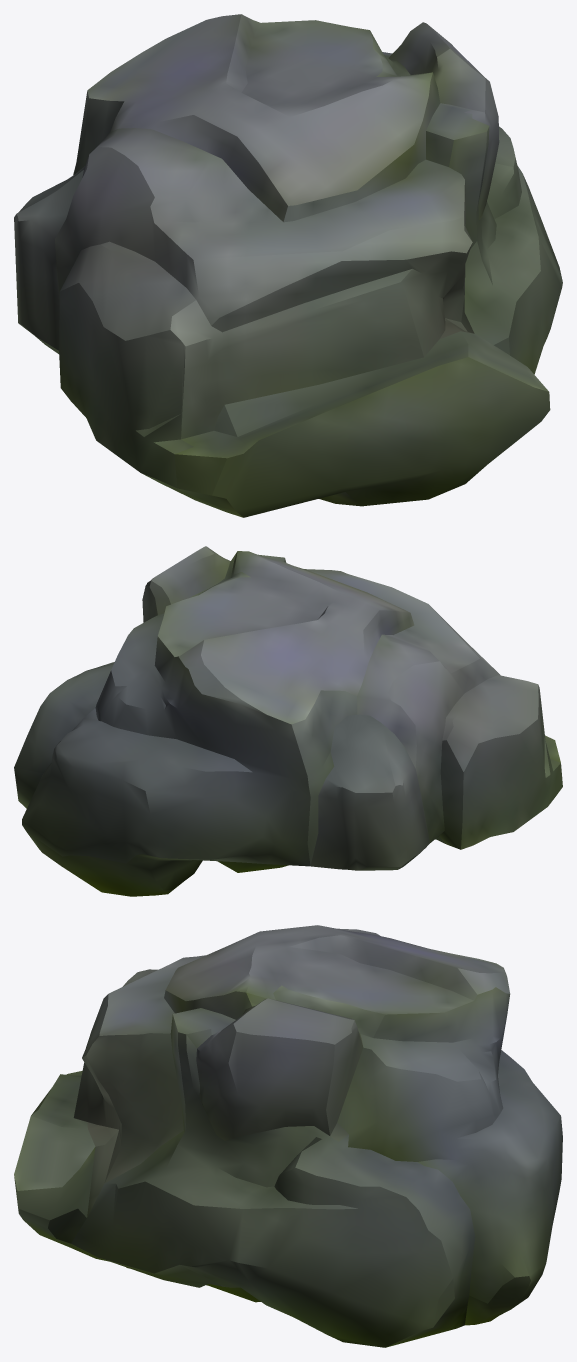
File: rock-5.glb
3 views of the same model, one above another, from view 1: azimuth 30°, elevation 25°; view 2: azimuth 150°, elevation 25°; view 3: azimuth 270°, elevation 25° (orthographic). The views are drawn at different scales.
Visible parts, largest first — view 1: Rock_Big_2; view 2: Rock_Big_2; view 3: Rock_Big_2.
Part boxes in pixels (bbox=[...]): Rock_Big_2: bbox=[14, 14, 562, 517]; Rock_Big_2: bbox=[14, 546, 562, 896]; Rock_Big_2: bbox=[14, 925, 562, 1347].
Size of the model in its own units: 1.67 by 1.1 by 1.68.
Materials: 1 (1 with a texture image).
